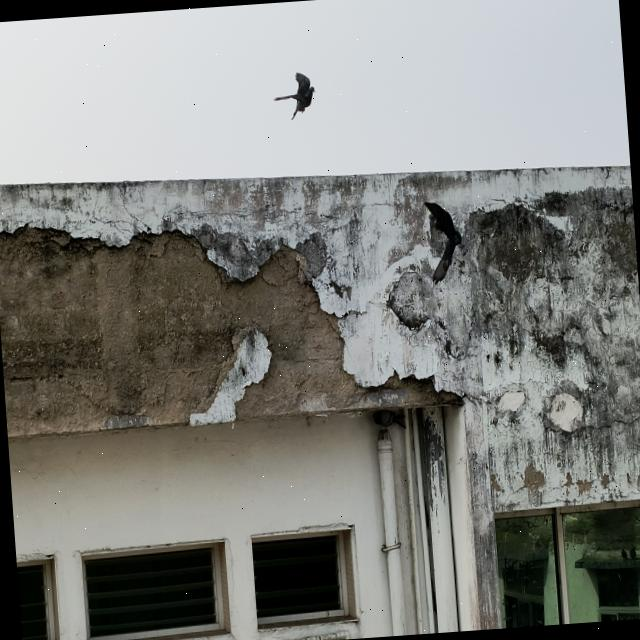peeling: (0, 230, 462, 436)
stain_mould: (443, 189, 640, 457)
